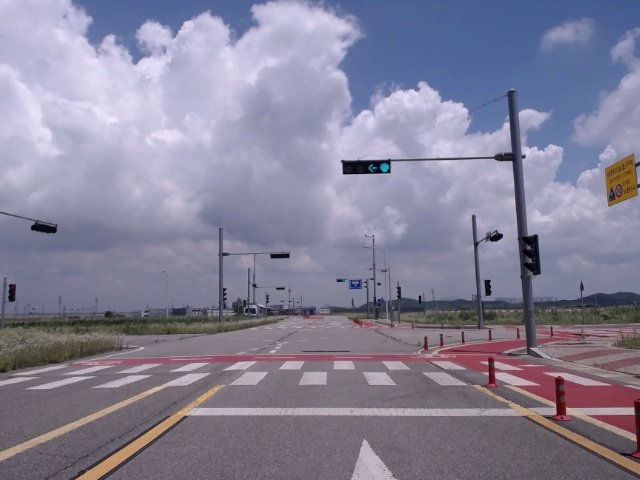all_green_4: (341, 161, 397, 179)
